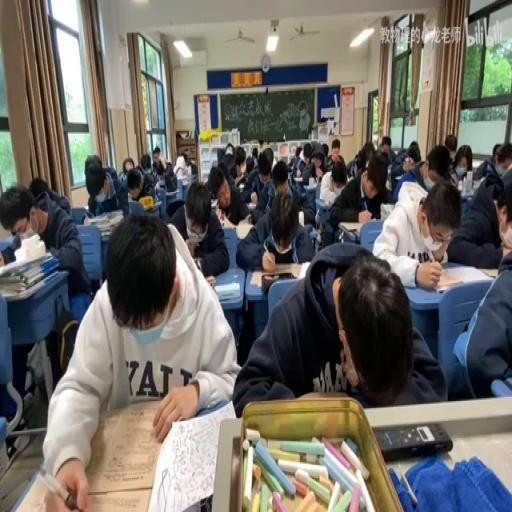calculator: (85, 212, 139, 279), (249, 264, 309, 288), (439, 263, 492, 286), (214, 282, 240, 300), (302, 181, 317, 209), (216, 212, 239, 230), (234, 219, 252, 240), (338, 224, 357, 242), (379, 202, 394, 219), (470, 176, 484, 192), (82, 206, 92, 218), (165, 186, 178, 195), (236, 179, 245, 189), (179, 175, 190, 183), (247, 202, 257, 210), (391, 171, 400, 179), (293, 174, 302, 180)
paper: (45, 210, 237, 510), (234, 242, 439, 415), (0, 179, 91, 312), (372, 176, 461, 288), (236, 184, 314, 270), (445, 164, 509, 268), (168, 179, 230, 276), (329, 148, 392, 235), (84, 156, 126, 220), (389, 140, 424, 186), (300, 140, 333, 186), (450, 142, 472, 186), (154, 149, 178, 189), (424, 144, 450, 180), (238, 162, 260, 202), (354, 139, 375, 172), (125, 166, 144, 202), (271, 161, 290, 195), (0, 235, 21, 263), (206, 174, 222, 204), (474, 154, 497, 172), (234, 146, 246, 178), (216, 160, 230, 184), (494, 152, 510, 172), (262, 145, 274, 171), (331, 172, 345, 191), (140, 152, 152, 174), (444, 134, 457, 154), (346, 155, 358, 176), (330, 140, 340, 164), (380, 135, 392, 154), (122, 156, 134, 174), (302, 142, 312, 160), (188, 160, 197, 180), (250, 146, 258, 166), (293, 145, 302, 161), (491, 142, 501, 156), (321, 141, 329, 158), (181, 155, 189, 169), (224, 144, 234, 155), (246, 160, 253, 174), (153, 155, 159, 164)
person: (374, 422, 451, 461)
